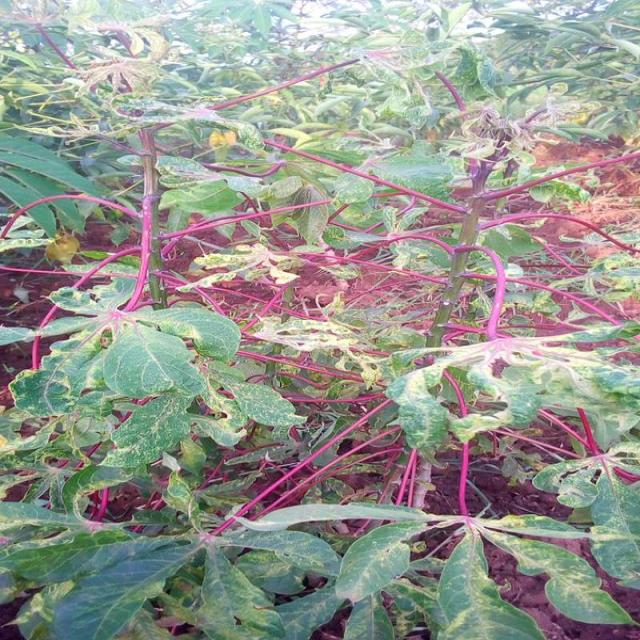cassava leaf: (0, 2, 638, 638)
